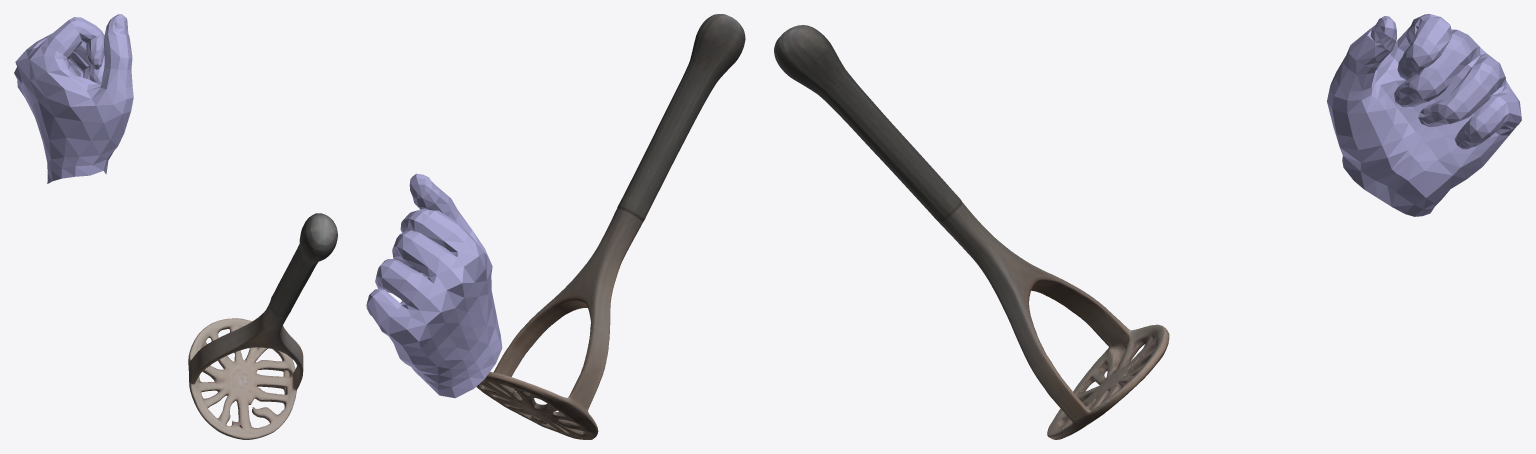
File: frame_0032_source_000032_hand_object.glb
3 views of the same model, side by side, from view 1: azimuth 30°, elevation 25°; view 2: azimuth 150°, elevation 25°; view 3: azimuth 270°, elevation 25° (orthographic). The views are drawn at different scales.
Parts seen in each view (by area): view 1: world; view 2: world; view 3: world.
Part boxes in pixels (x1,y1,x2,y2): world: (14,14,337,439); world: (366,14,745,439); world: (774,14,1521,439).
Size of the model in its own units: 0.0988 by 0.2333 by 0.384.
